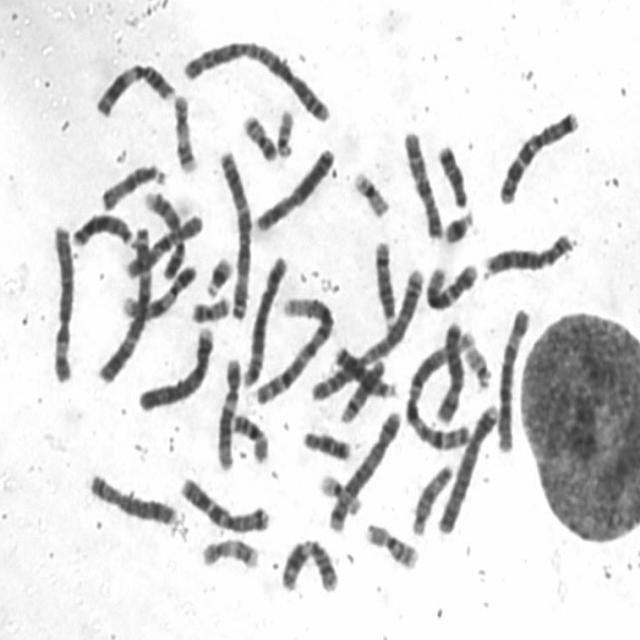A1: (250, 290, 338, 406), (401, 323, 477, 453)
A2: (305, 258, 429, 403), (177, 31, 335, 124)
A3: (94, 220, 156, 385), (214, 140, 255, 324)
B4: (434, 395, 502, 536), (134, 319, 216, 412)
B5: (325, 402, 405, 533), (237, 247, 291, 390)
C10: (121, 208, 205, 279), (398, 122, 446, 240)
C11: (90, 54, 178, 119), (276, 532, 342, 596)
C12: (212, 350, 244, 472), (422, 254, 482, 312)
C6: (493, 298, 534, 455), (46, 216, 78, 386)
C7: (493, 101, 582, 206), (175, 469, 272, 535)
C8: (84, 466, 180, 528), (478, 225, 578, 279)
C9: (116, 258, 200, 321), (139, 183, 187, 281)
D13: (331, 340, 399, 400), (68, 205, 137, 250)
D14: (336, 352, 389, 424), (370, 232, 399, 325)
D15: (96, 155, 168, 212), (406, 456, 456, 537)
E16: (362, 515, 422, 571), (228, 407, 272, 465)
E17: (169, 87, 200, 175), (196, 531, 262, 572)
E18: (434, 136, 472, 209), (298, 422, 354, 462)
F19: (348, 162, 393, 220), (314, 467, 364, 516)
F20: (237, 107, 280, 162), (188, 288, 233, 324)
G21: (201, 248, 236, 299), (439, 202, 477, 246)
G22: (460, 334, 495, 390), (272, 100, 298, 160)
X: (250, 139, 338, 233), (431, 314, 468, 426)
